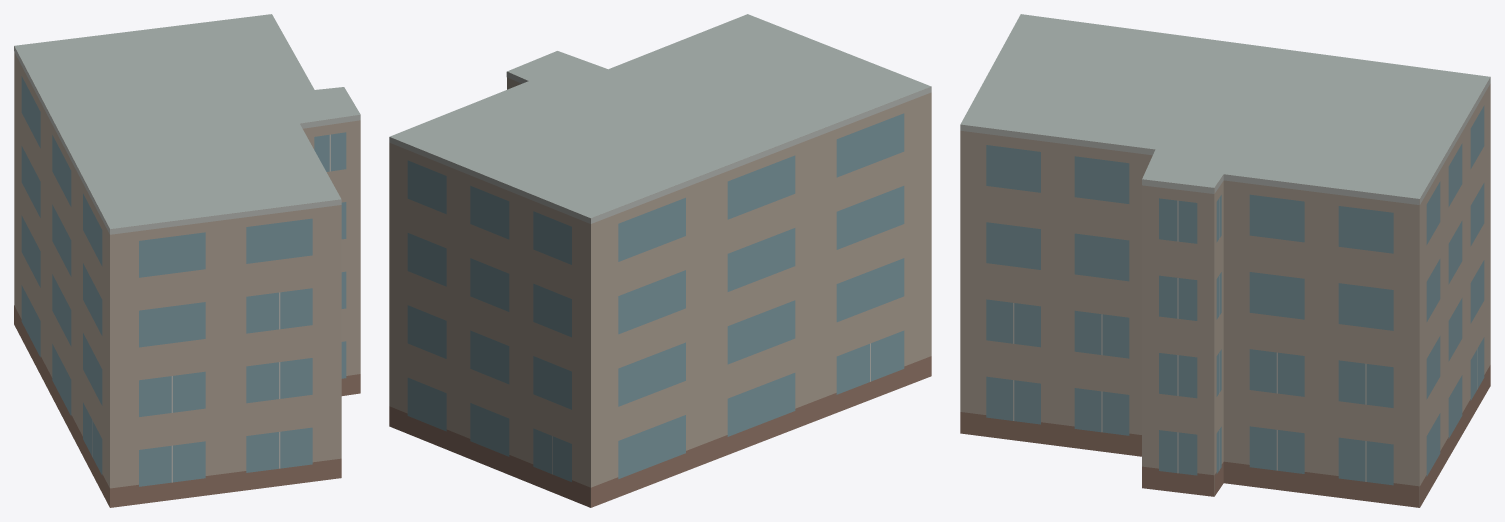
The model's file is survey-upis-32787470.glb.
3 views of the same model, side by side, from view 1: azimuth 30°, elevation 25°; view 2: azimuth 150°, elevation 25°; view 3: azimuth 270°, elevation 25° (orthographic). The views are drawn at different scales.
Parts seen in each view (by area): view 1: survey-upis-32787470.tmp; view 2: survey-upis-32787470.tmp; view 3: survey-upis-32787470.tmp.
Boxes of the visible parts, x1=… form: survey-upis-32787470.tmp: x1=14, y1=14, x2=360, y2=507; survey-upis-32787470.tmp: x1=389, y1=14, x2=931, y2=507; survey-upis-32787470.tmp: x1=960, y1=14, x2=1490, y2=507.
Size of the model in its own units: 15.68 by 12.2 by 18.99.
